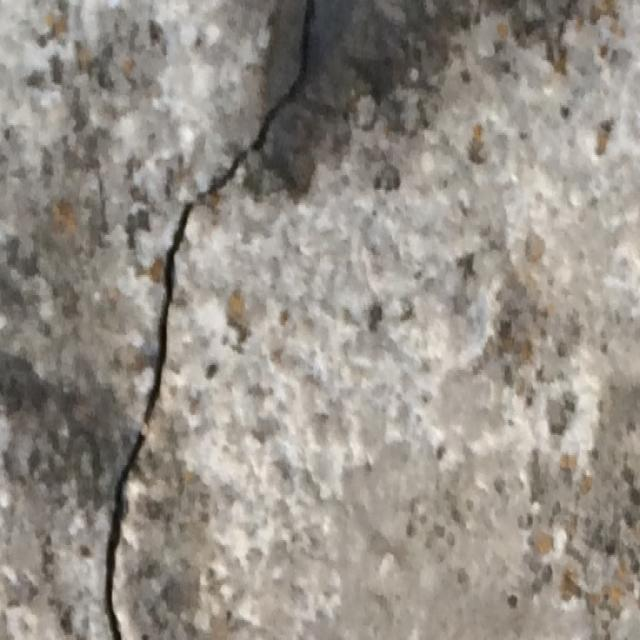crack: (98, 2, 320, 638)
